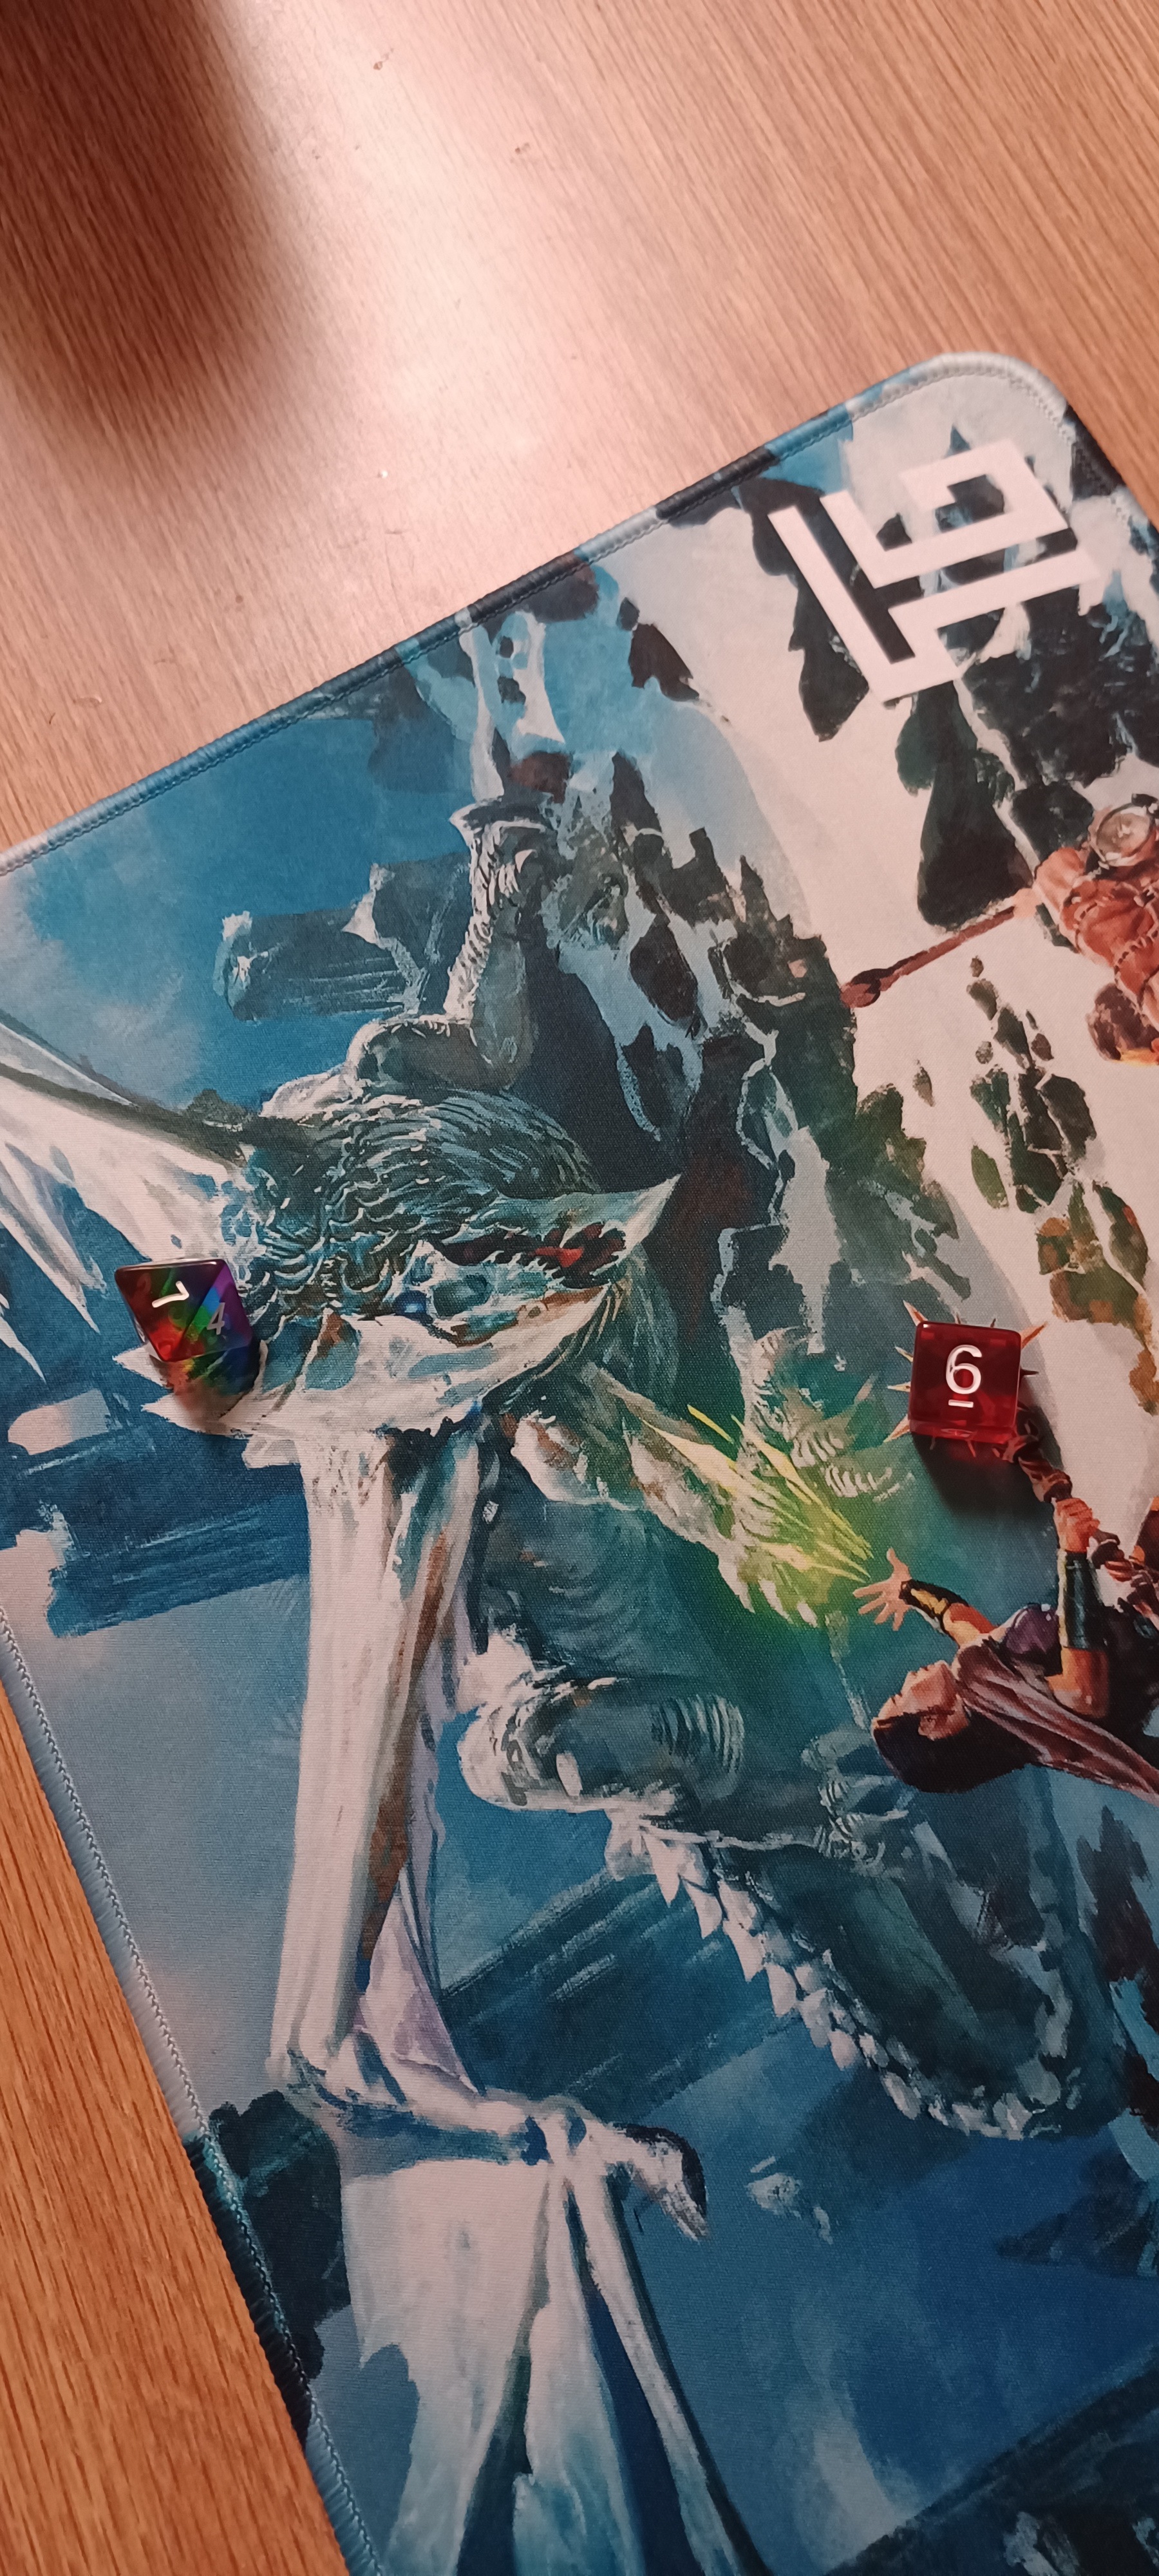seven: (94, 1222, 281, 1401)
six: (860, 1288, 1062, 1480)
